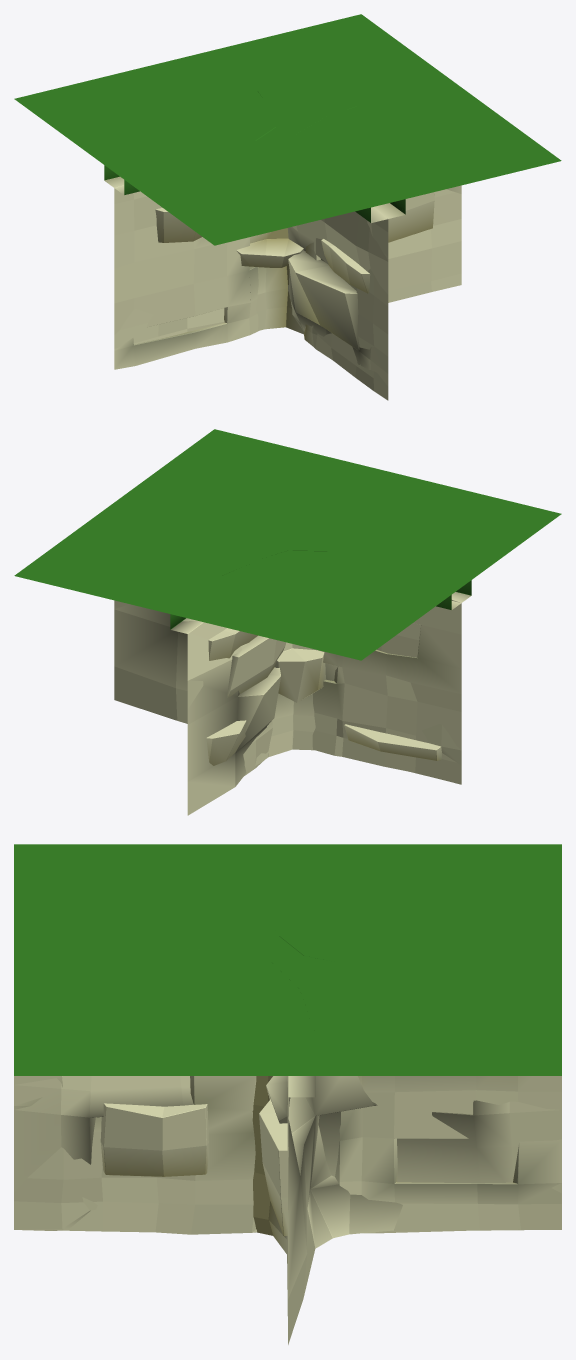
Rendered from basicIslands.fbx.
3 views of the same model, one above another, from view 1: azimuth 30°, elevation 25°; view 2: azimuth 150°, elevation 25°; view 3: azimuth 270°, elevation 25° (orthographic). The views are drawn at different scales.
Visible parts, largest first — view 1: doubleCorner, centerWall, innerCorner, sideWall, cornerWall; view 2: centerWall, doubleCorner, innerCorner, cornerWall, sideWall; view 3: centerWall, doubleCorner, innerCorner, sideWall, cornerWall.
Boxes of the visible parts, x1,y1,x2,y2 form: doubleCorner: (114,14,461,400); centerWall: (14,40,561,245); innerCorner: (104,81,560,365); sideWall: (287,66,559,386); cornerWall: (379,33,461,193); centerWall: (69,429,561,660); doubleCorner: (14,510,560,776); innerCorner: (135,430,461,784); cornerWall: (114,604,280,815); sideWall: (97,429,363,776); centerWall: (14,844,561,1075); doubleCorner: (15,844,561,1315); innerCorner: (14,940,551,1234); sideWall: (14,971,561,1233); cornerWall: (266,1003,561,1344).
Bounding box in the file's own units: 100 × 55.06 × 100.
